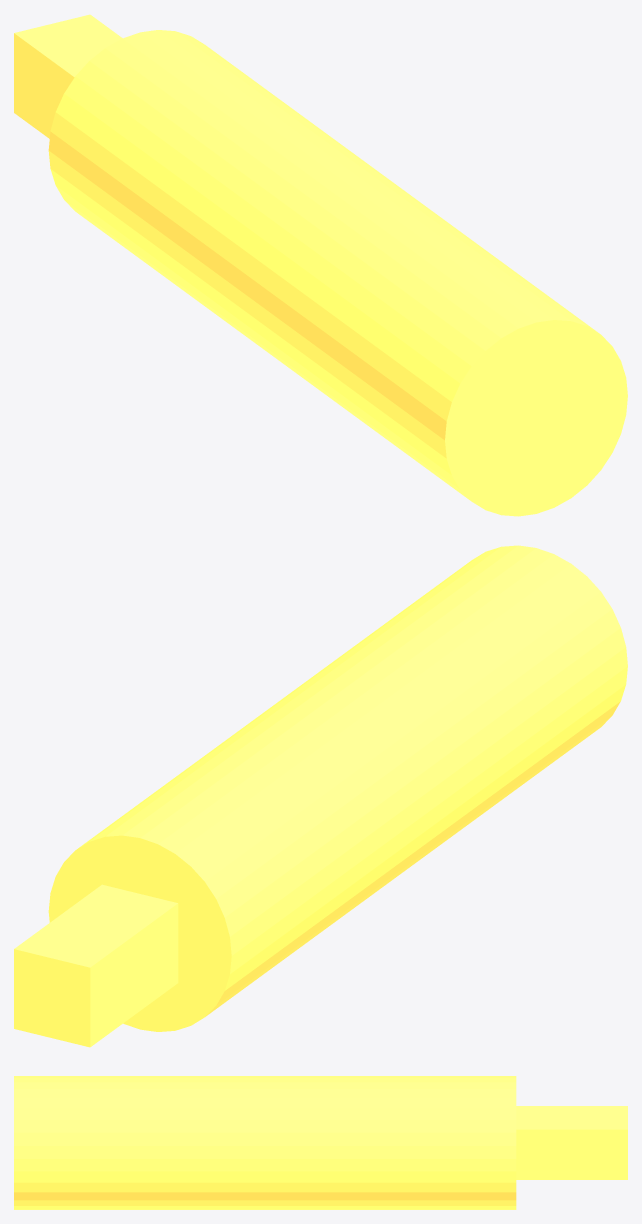
Rendered from weapon_rocket.glb.
3 renders of one model, top to bottom at view 1: azimuth 30°, elevation 25°; view 2: azimuth 150°, elevation 25°; view 3: azimuth 270°, elevation 25°, orthographic. The views are drawn at different scales.
Parts seen in each view (by area): view 1: RocketBody, RocketNose; view 2: RocketBody, RocketNose; view 3: RocketBody, RocketNose.
Part boxes in pixels (<box>): RocketBody: <box>48,30,627,516</box>; RocketNose: <box>14,14,122,138</box>; RocketBody: <box>48,545,627,1031</box>; RocketNose: <box>14,884,178,1047</box>; RocketBody: <box>14,1076,516,1209</box>; RocketNose: <box>516,1106,627,1179</box>.
Size of the model in its own units: 0.24 by 0.24 by 1.1.
